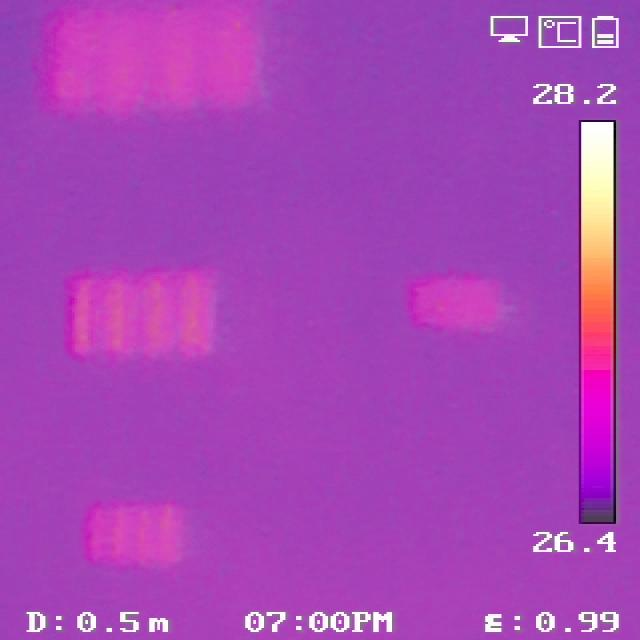Indistinguishable 4-bar target: (412, 274, 496, 321)
threshold 4-bar target: (45, 0, 260, 112), (64, 266, 219, 357), (82, 498, 182, 568)
